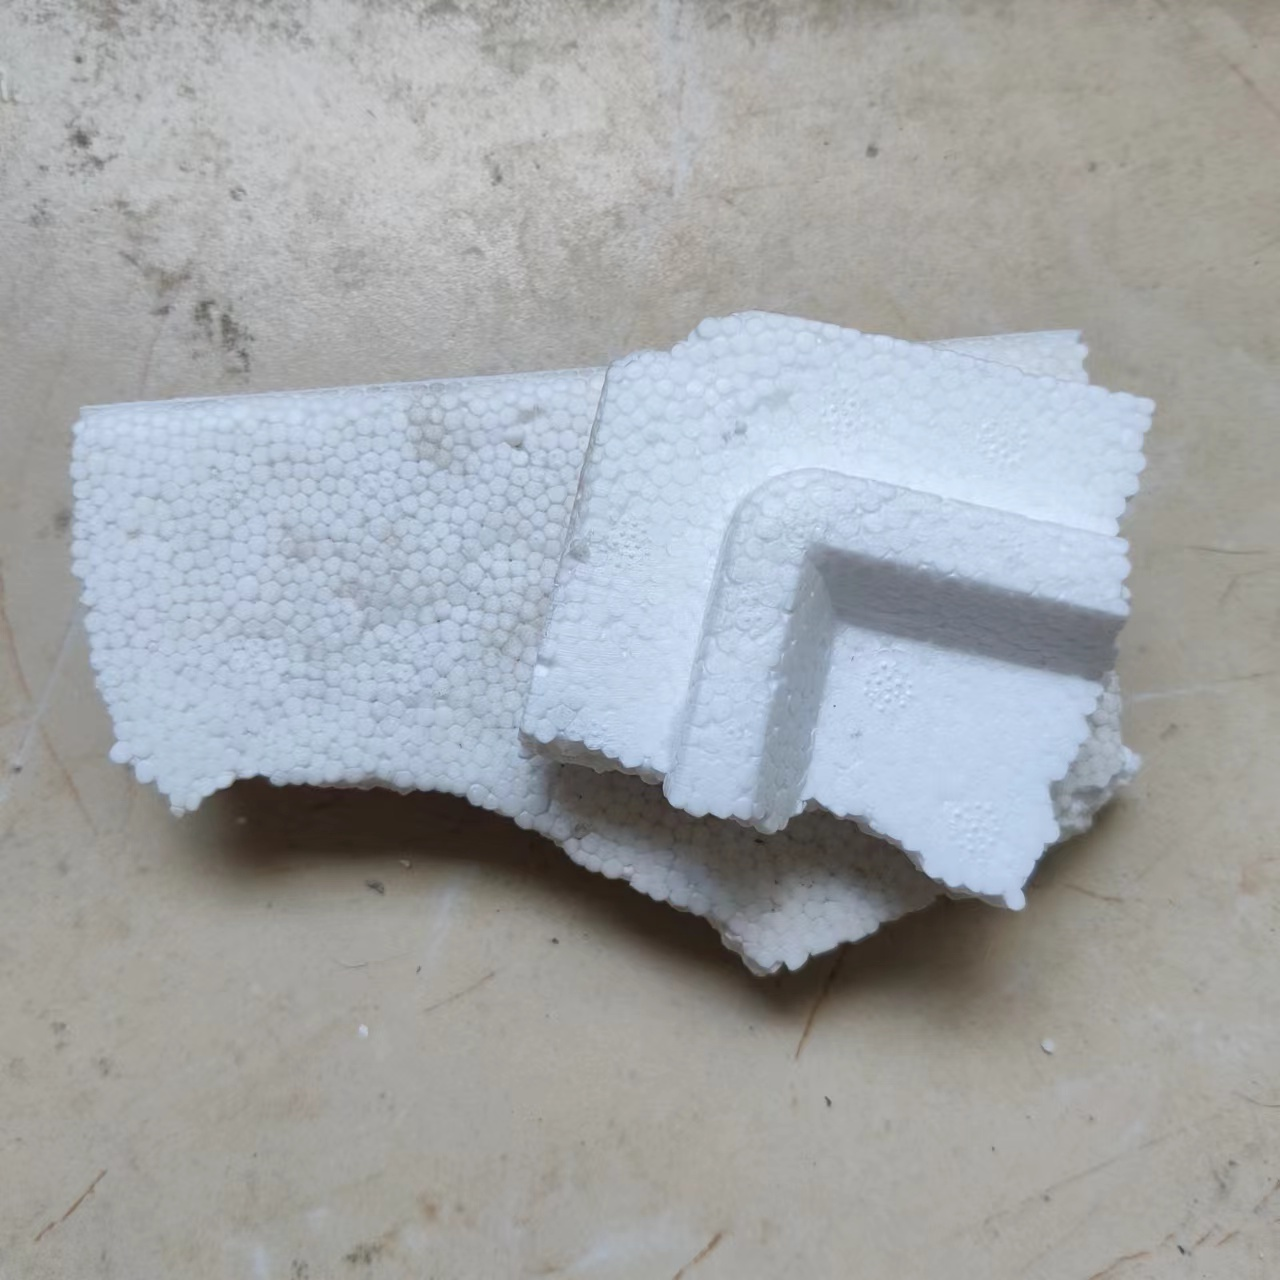5/可回收垃圾/泡沫: (64, 329, 1142, 981), (516, 311, 1156, 910)
